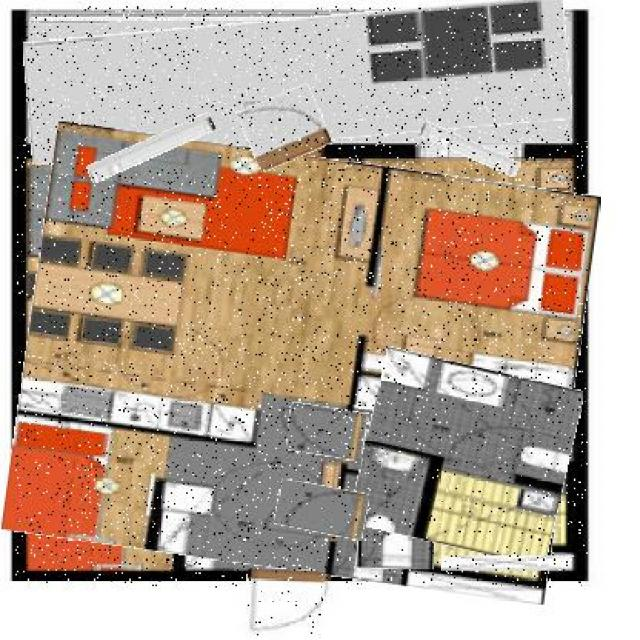door: (242, 90, 328, 168), (246, 569, 323, 637), (275, 481, 368, 537), (289, 404, 369, 458)
window: (86, 126, 217, 169), (418, 132, 520, 166), (440, 555, 572, 571)
zone: (15, 138, 588, 588), (26, 6, 571, 154), (357, 357, 574, 555), (357, 465, 435, 569)
